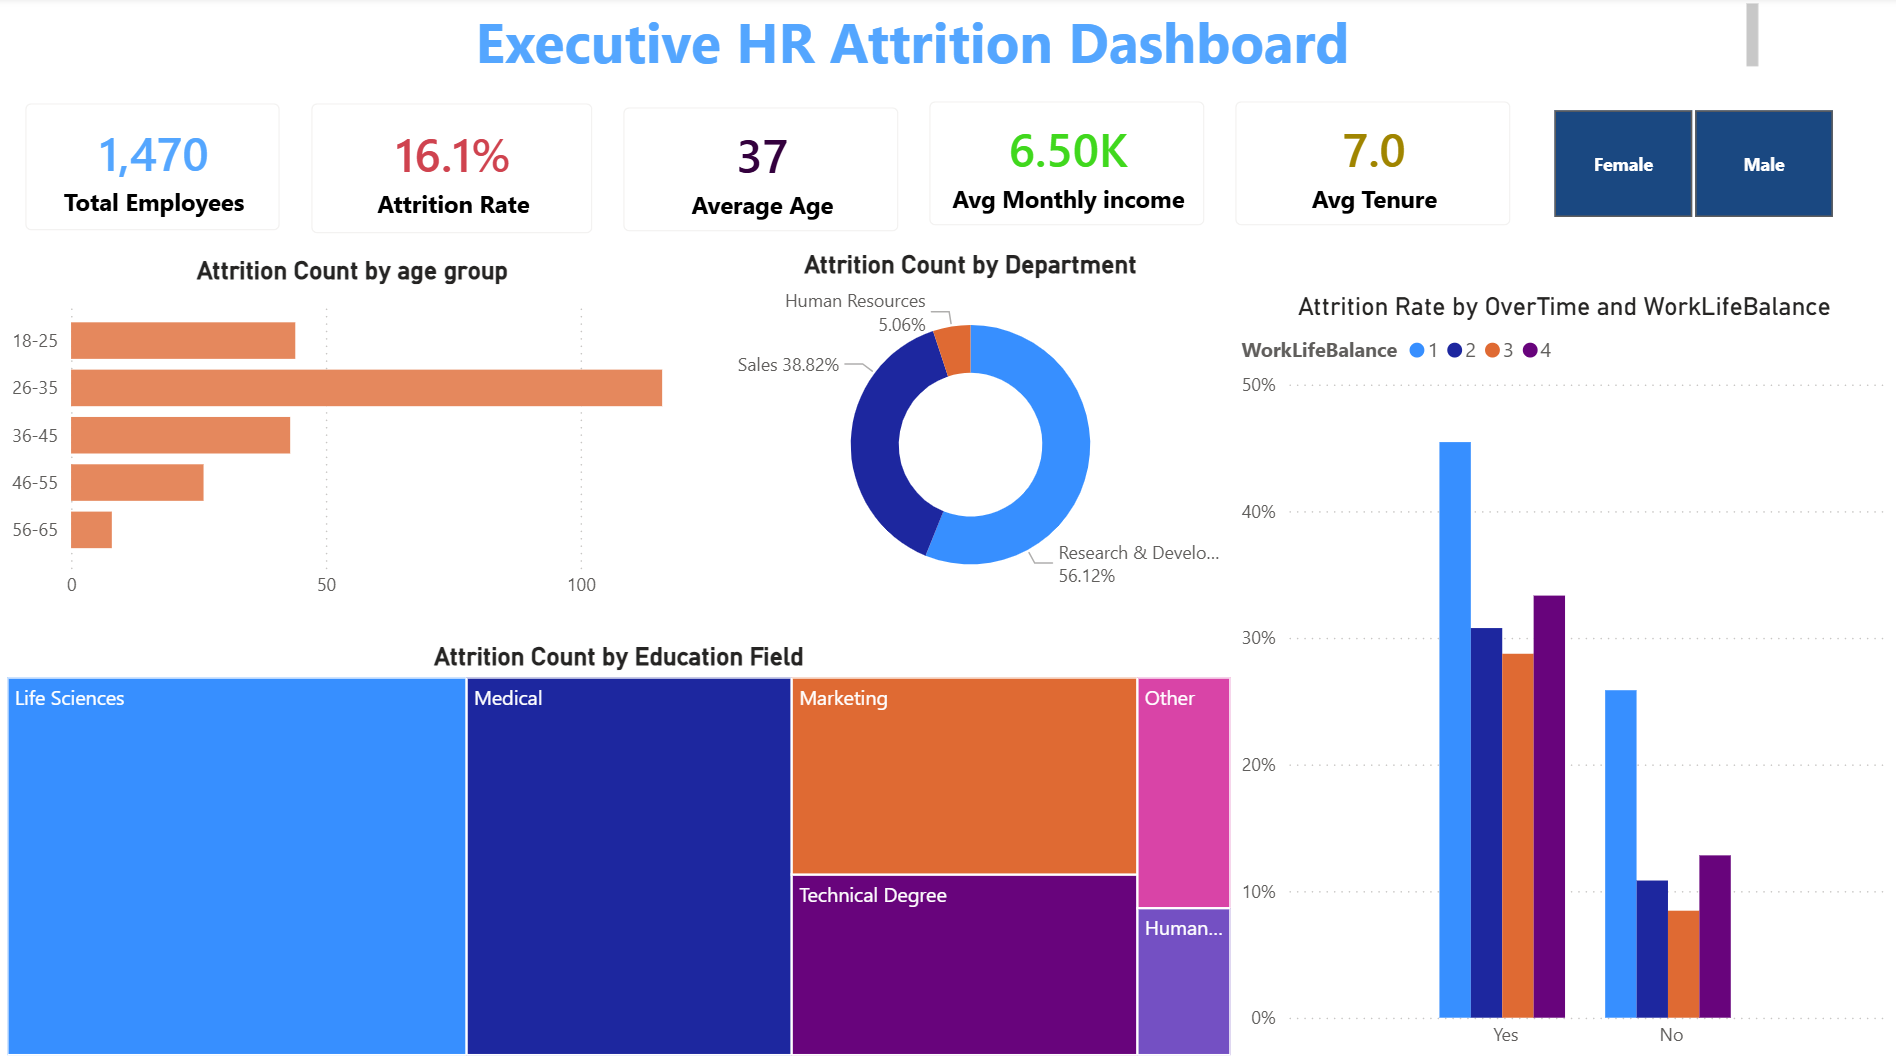

This screenshot's page, from the dashboard's own definition file:
{"tool":"powerbi","page":{"name":"Page 1","canvas":[1280,720],"ordinal":0},"visuals":[{"type":"cardVisual","fields":{"Data":["HR-Employee-Attrition.Total Employees","HR-Employee-Attrition.Total Employees"]},"box":[0,56,206,120],"z":0},{"type":"cardVisual","fields":{"Data":["HR-Employee-Attrition.Attrition Rate"]},"box":[192.8,56,224,122],"z":1000},{"type":"cardVisual","fields":{"Data":["Avg(HR-Employee-Attrition.Age)"]},"box":[403.6,58,220,118],"z":2000},{"type":"cardVisual","fields":{"Data":["Avg(HR-Employee-Attrition.MonthlyIncome)"]},"box":[610.4,54,220,118],"z":3000},{"type":"clusteredBarChart","fields":{"Category":["HR-Employee-Attrition.age group"],"Y":["HR-Employee-Attrition.Attrition Count"]},"box":[0,176,476,240],"z":4000},{"type":"donutChart","fields":{"Category":["HR-Employee-Attrition.Department"],"Y":["HR-Employee-Attrition.Attrition Count"]},"box":[476,172,360,244],"z":5000},{"type":"treemap","title":"Attrition Count by Education Field","fields":{"Group":["HR-Employee-Attrition.EducationField"],"Values":["HR-Employee-Attrition.Attrition Count"]},"box":[0,436,836,284],"z":6000},{"type":"textbox","box":[48,0,1144,56],"z":7000},{"type":"cardVisual","fields":{"Data":["Avg(HR-Employee-Attrition.YearsAtCompany)"]},"box":[817.2,54,220,118],"z":8000},{"type":"clusteredColumnChart","fields":{"Category":["HR-Employee-Attrition.OverTime"],"Y":["HR-Employee-Attrition.Attrition Rate"],"Series":["HR-Employee-Attrition.WorkLifeBalance"]},"box":[834,200,446,520],"z":9000},{"type":"slicer","fields":{"Values":["HR-Employee-Attrition.Gender"]},"box":[1024,70,238,86],"z":9001}]}

Visuals, with their boxes in screenshot pixels (x1, y1, x2, y2), scaled from the page's 1280x720 canvas onto the 1896x1060 screenshot:
cardVisual - HR-Employee-Attrition.Total Employees x HR-Employee-Attrition.Total Employees: select_region(0, 82, 305, 259)
cardVisual - HR-Employee-Attrition.Attrition Rate: select_region(286, 82, 617, 262)
cardVisual - Avg(HR-Employee-Attrition.Age): select_region(598, 85, 924, 259)
cardVisual - Avg(HR-Employee-Attrition.MonthlyIncome): select_region(904, 80, 1230, 253)
clusteredBarChart - HR-Employee-Attrition.age group x HR-Employee-Attrition.Attrition Count: select_region(0, 259, 705, 612)
donutChart - HR-Employee-Attrition.Department x HR-Employee-Attrition.Attrition Count: select_region(705, 253, 1238, 612)
"Attrition Count by Education Field" treemap: select_region(0, 642, 1238, 1059)
textbox: select_region(71, 0, 1766, 82)
cardVisual - Avg(HR-Employee-Attrition.YearsAtCompany): select_region(1210, 80, 1536, 253)
clusteredColumnChart - HR-Employee-Attrition.OverTime x HR-Employee-Attrition.Attrition Rate: select_region(1235, 294, 1895, 1059)
slicer - HR-Employee-Attrition.Gender: select_region(1517, 103, 1869, 230)
